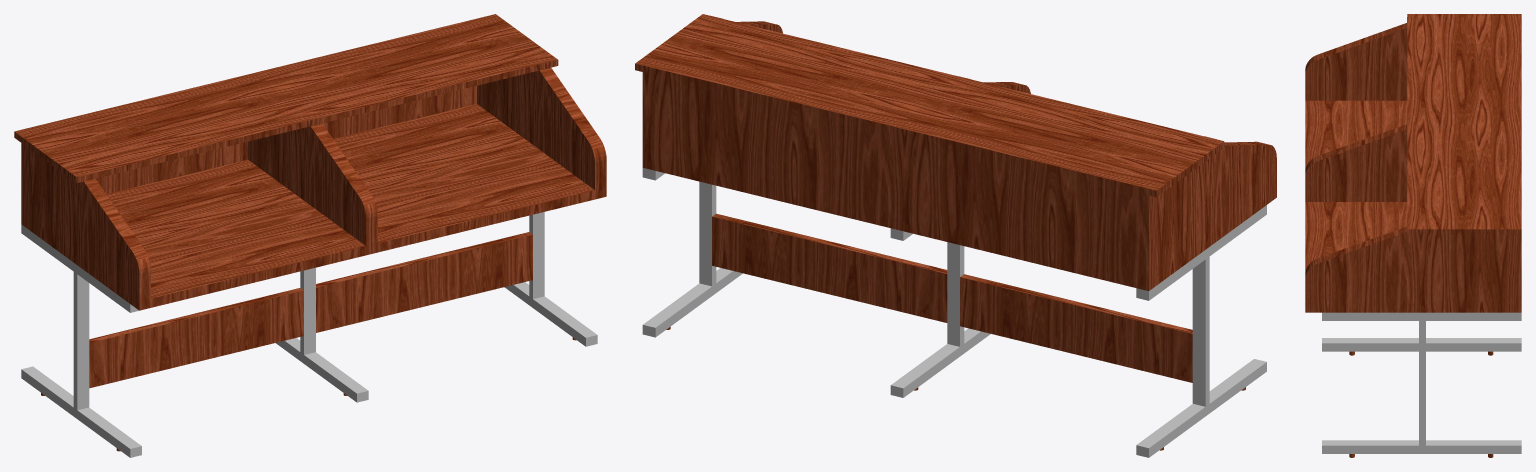
The model's file is MesaProTerminada.fbx.
3 renders of one model, left to right at view 1: azimuth 30°, elevation 25°; view 2: azimuth 150°, elevation 25°; view 3: azimuth 270°, elevation 25°, orthographic. The views are drawn at different scales.
Parts seen in each view (by area): view 1: Cube.002; view 2: Cube.002; view 3: Cube.002.
Part boxes in pixels (x1,y1,x2,y2): Cube.002: (14,14,606,457); Cube.002: (635,14,1276,457); Cube.002: (1305,14,1521,457).
Bounding box in the file's own units: 282 × 142 × 120.
